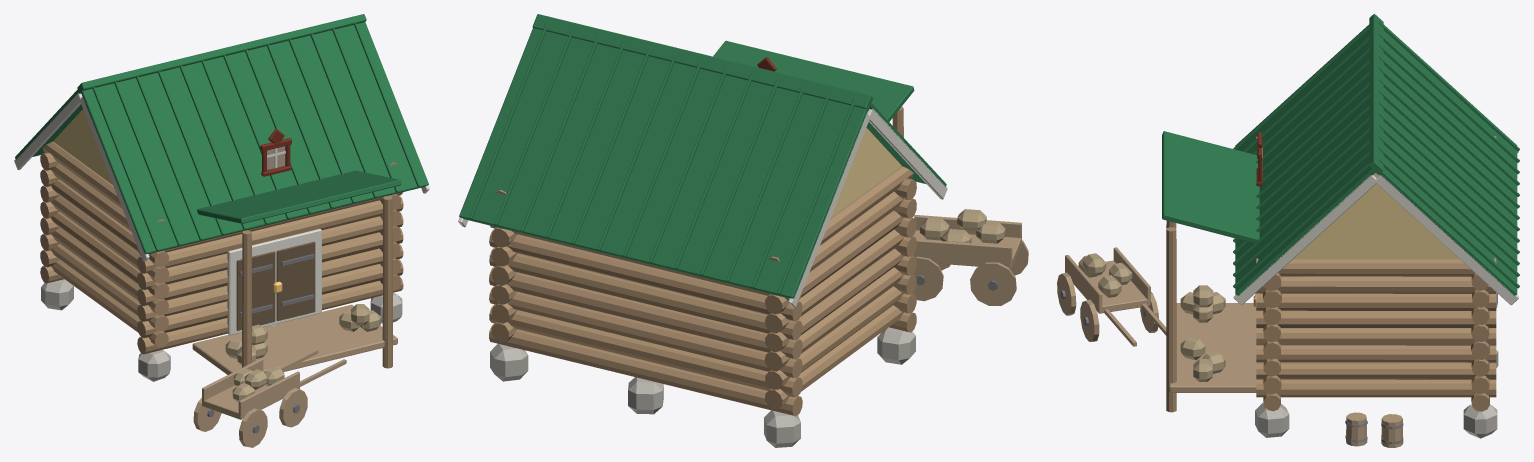
File: bld_ambar_e2.glb
The picture shows the model from 3 angles, left to right: view 1: azimuth 30°, elevation 25°; view 2: azimuth 150°, elevation 25°; view 3: azimuth 270°, elevation 25°; orthographic projection. The views are drawn at different scales.
Parts seen in each view (by area): view 1: ambar; view 2: ambar; view 3: ambar.
Part boxes in pixels (left/top/right/bottom): ambar: left=14, top=14, right=429, bottom=447; ambar: left=458, top=14, right=1028, bottom=447; ambar: left=1057, top=14, right=1519, bottom=447.
Size of the model in its own units: 1.82 by 1.59 by 2.33.
